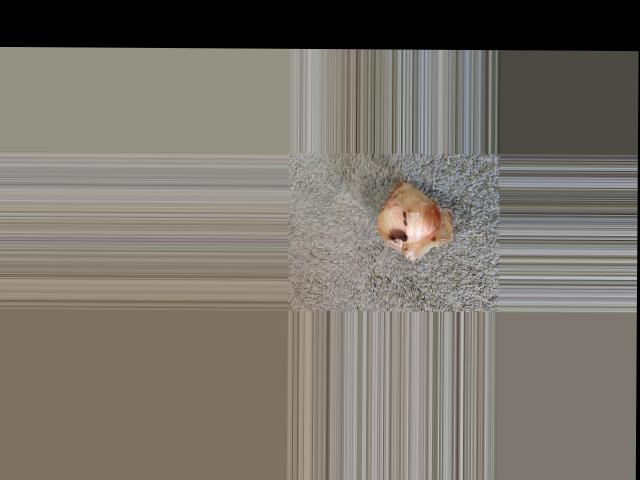onion: (374, 184, 440, 250)
